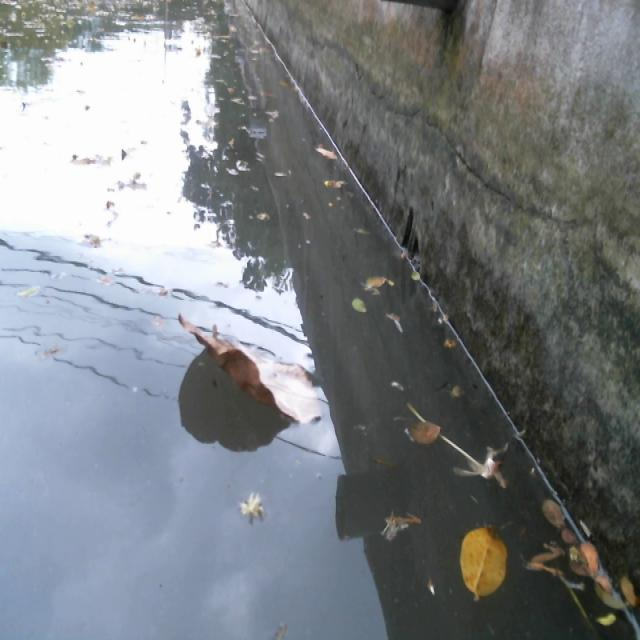Big-leaf: (169, 307, 332, 431)
Small-leaf: (455, 522, 511, 600), (402, 404, 452, 449), (592, 575, 631, 617), (373, 508, 421, 541), (569, 538, 604, 582), (359, 265, 394, 302), (540, 489, 567, 531), (315, 179, 354, 199), (312, 139, 340, 166), (593, 604, 618, 632), (349, 293, 371, 323), (405, 266, 424, 283)
